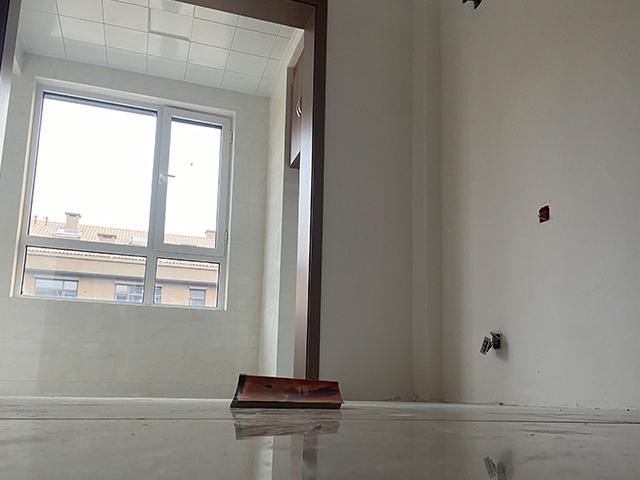book: (229, 372, 346, 411)
